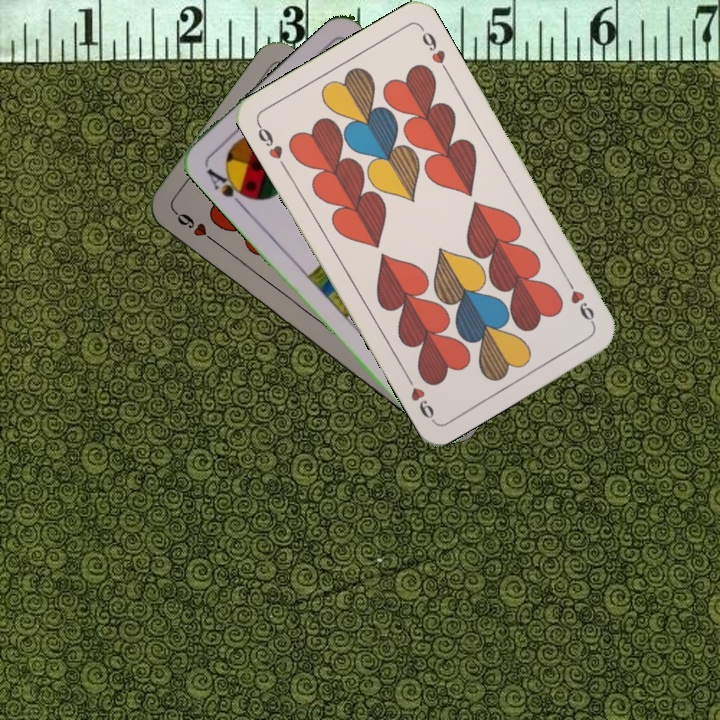H9: (170, 207, 221, 248), (253, 119, 290, 173), (562, 274, 598, 328)
SA: (202, 163, 254, 210)
